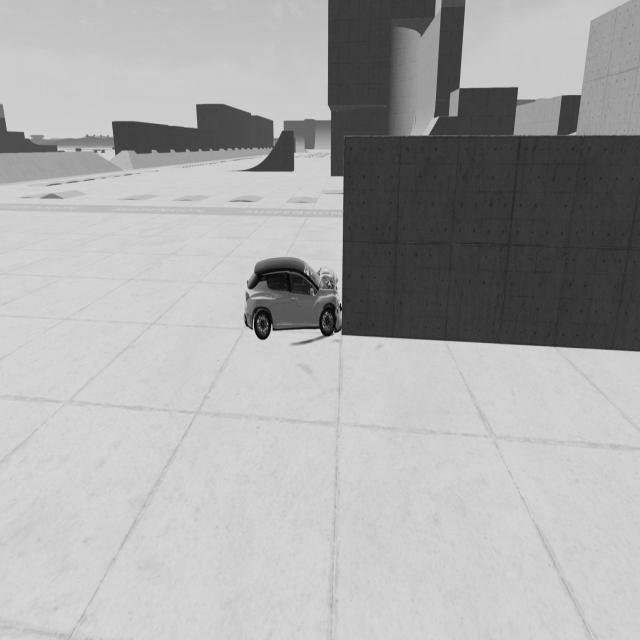accident: (242, 250, 361, 346)
